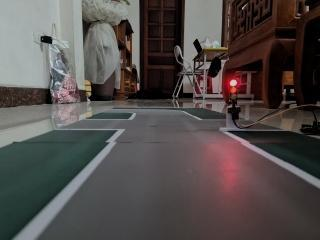red: (221, 73, 245, 115)
